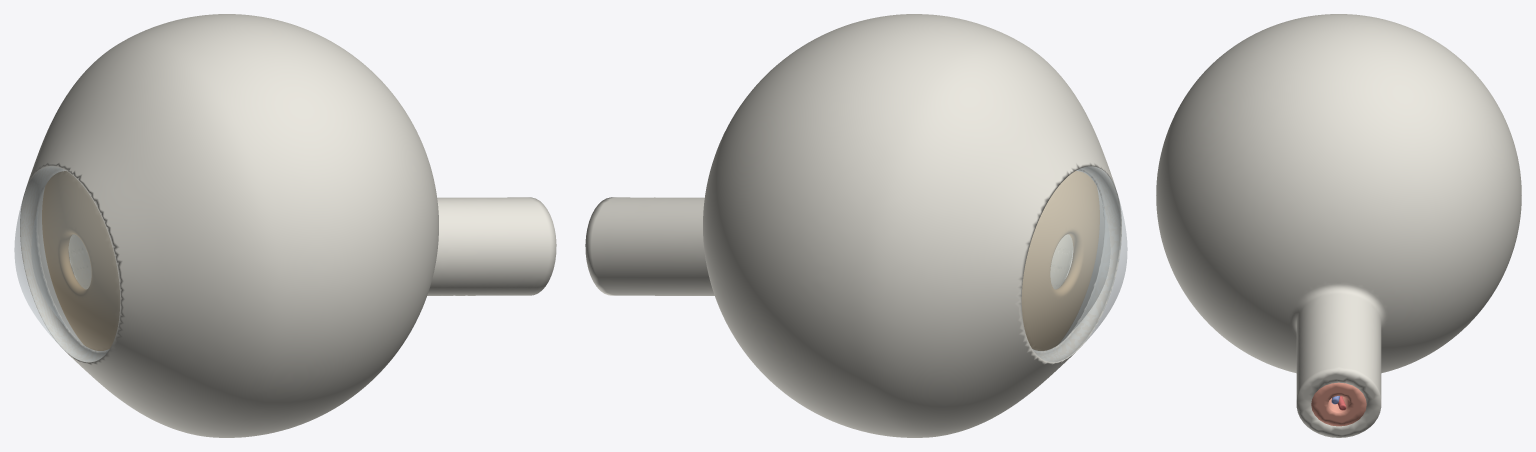
The model's file is human-eye-cad.glb.
3 views of the same model, side by side, from view 1: azimuth 30°, elevation 25°; view 2: azimuth 150°, elevation 25°; view 3: azimuth 270°, elevation 25° (orthographic). The views are drawn at different scales.
Visible parts, largest first — view 1: sclera, cornea, iris, lens; view 2: sclera, cornea, iris, lens; view 3: sclera, retina.
Boxes of the visible parts, left/top/right/bottom form: sclera: left=20, top=14, right=556, bottom=437; cornea: left=14, top=166, right=120, bottom=362; iris: left=42, top=171, right=120, bottom=350; lens: left=68, top=234, right=91, bottom=289; sclera: left=585, top=14, right=1121, bottom=437; cornea: left=1021, top=166, right=1127, bottom=361; iris: left=1021, top=171, right=1099, bottom=350; lens: left=1050, top=234, right=1073, bottom=289; sclera: left=1156, top=14, right=1521, bottom=437; retina: left=1311, top=382, right=1366, bottom=426.
Size of the model in its own units: 34.88 by 25 by 25.
